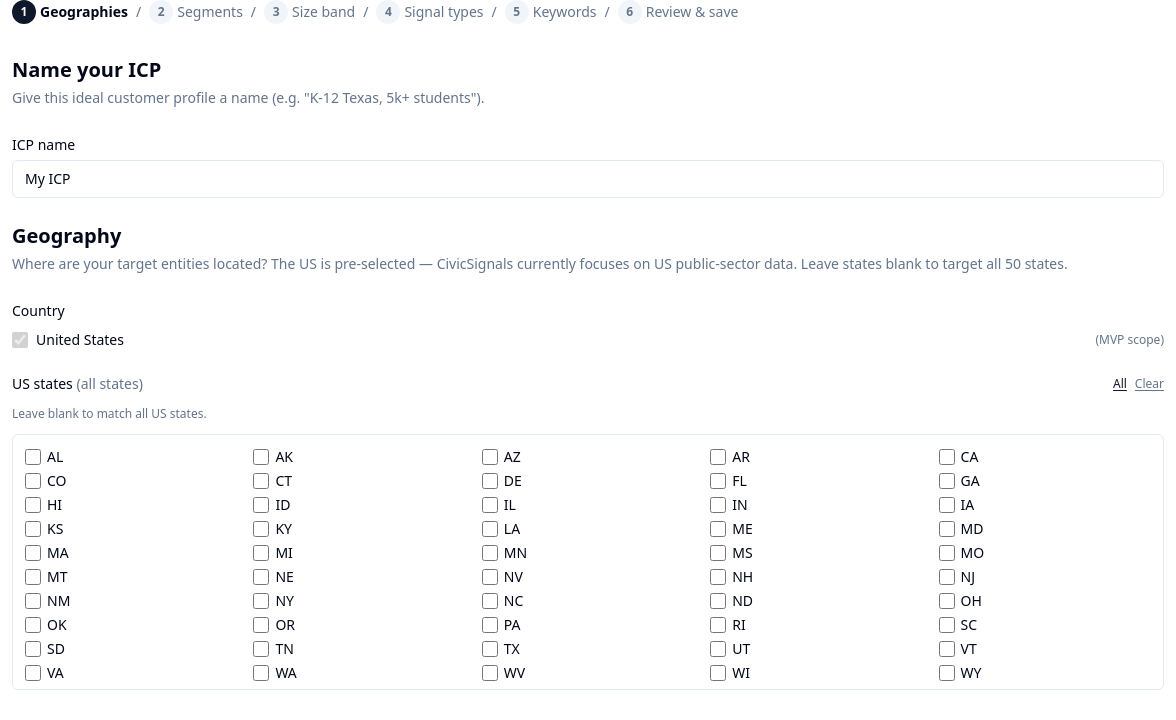
Test case: IcpWizard — step navigation › navigates back from segments to geography
This screenshot has width=1176, height=720.
Type "Test ICP" into the field labelled "ICP name" at (588,179), box [12, 160, 1164, 198]
(page scrolled)
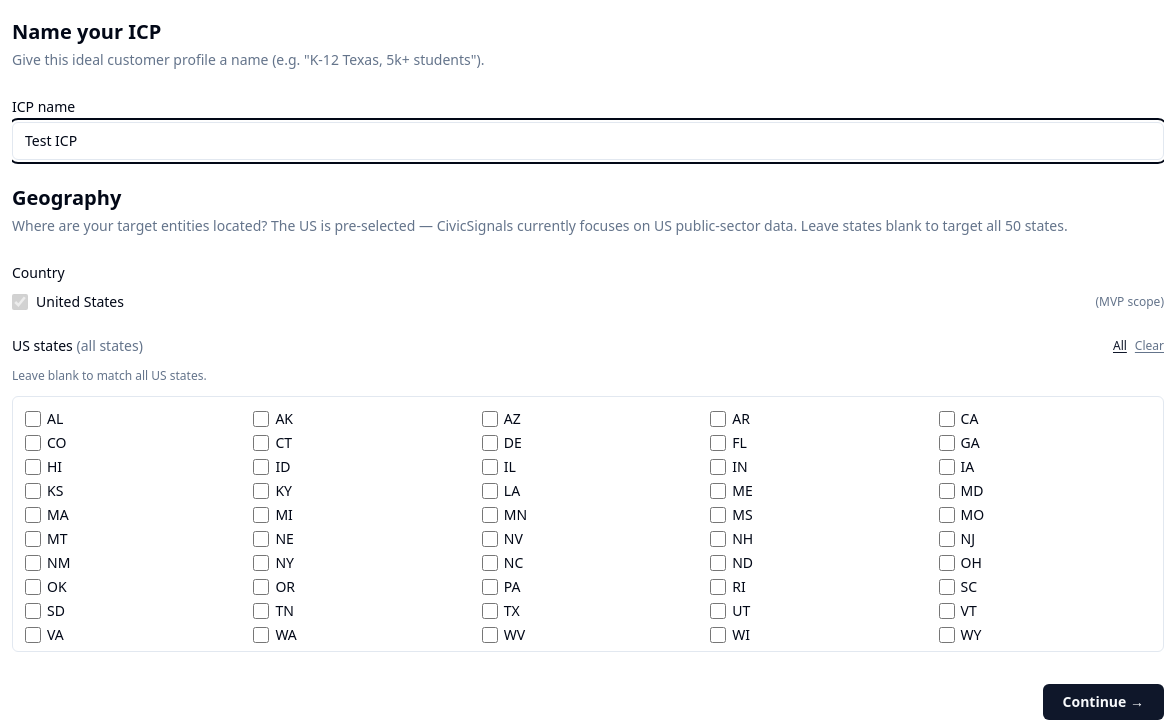
Click the button "Continue →" at (1103,702), box [1042, 684, 1164, 719]
(page scrolled)
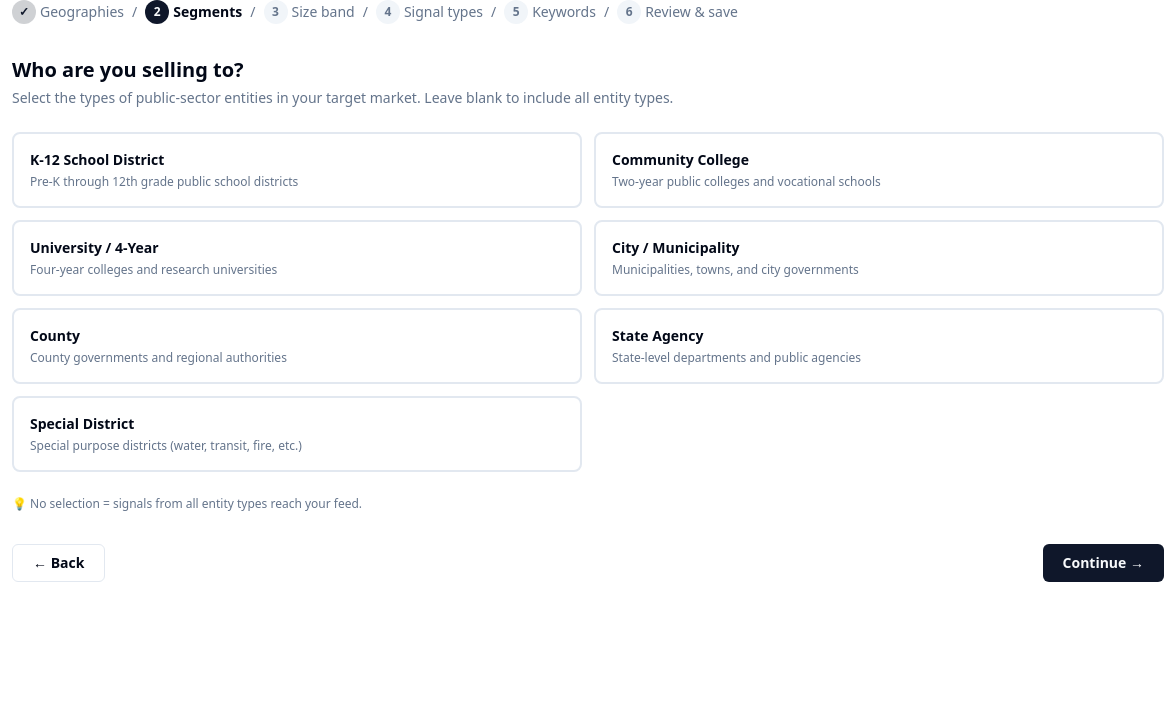
Expected: the heading "Who are you selling to?" is shown, [12, 56, 244, 83]
Click the button "← Back" at (59,563), box [12, 544, 105, 582]
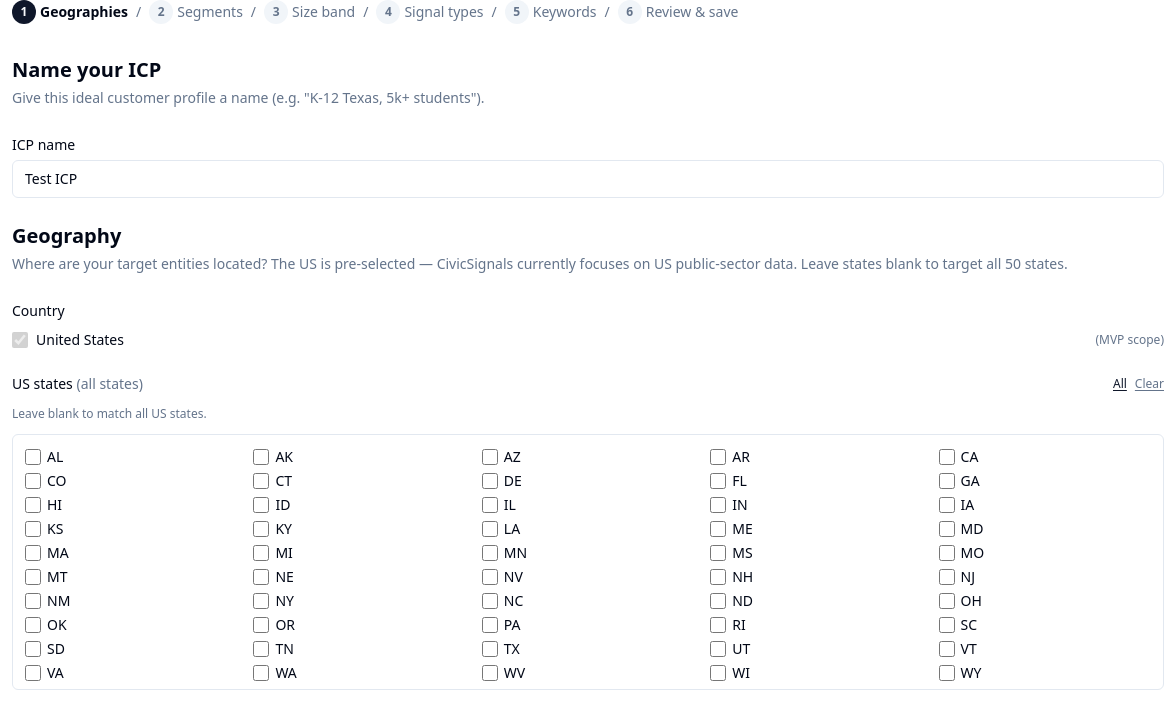
Expected: the field labelled "ICP name" is shown, [12, 160, 1164, 198]
